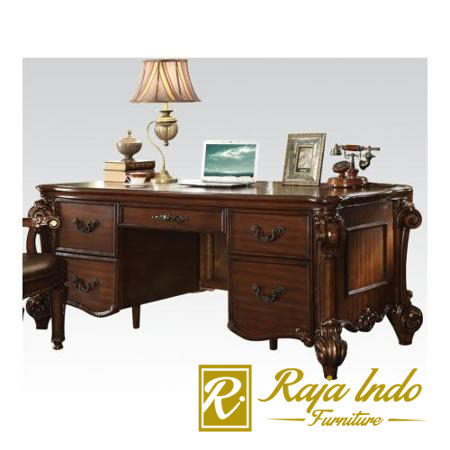Carving Table: (32, 155, 410, 358)
